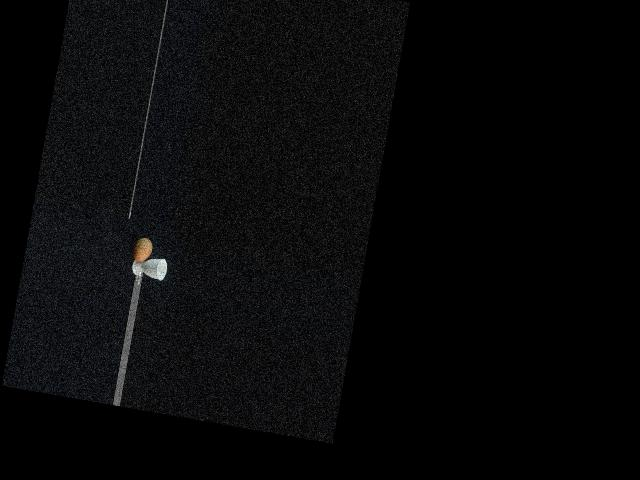egg: (132, 237, 153, 263)
